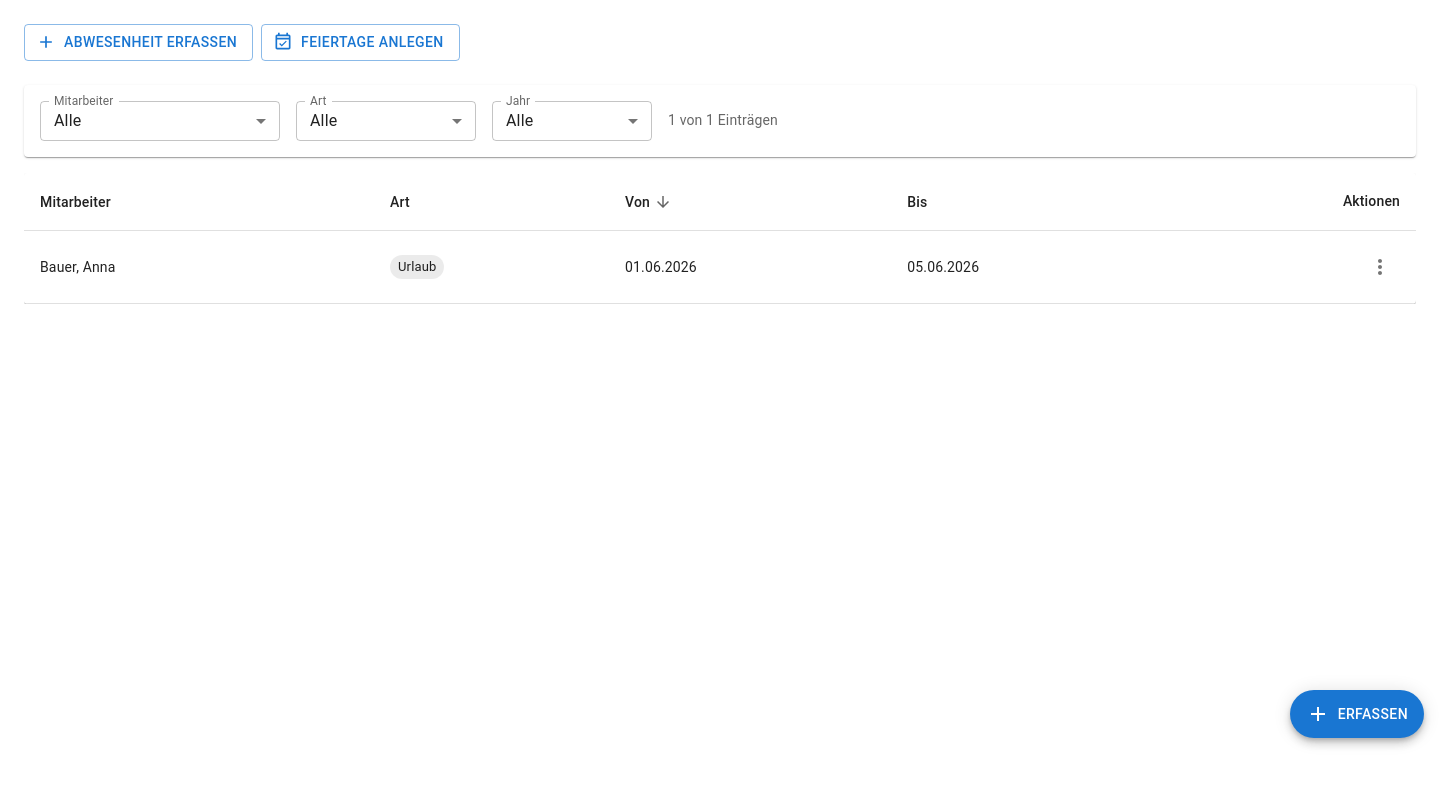
it: AbsencesView › with a branch selected › opens a delete confirm dialog with the pinned title and text, then deletes and reloads
Check: the text "Urlaub" is shown, box [398,258,436,274]
Click the button named "Weitere Aktionen für Bauer, Anna" at point(1380, 267), box [1360,247,1400,287]
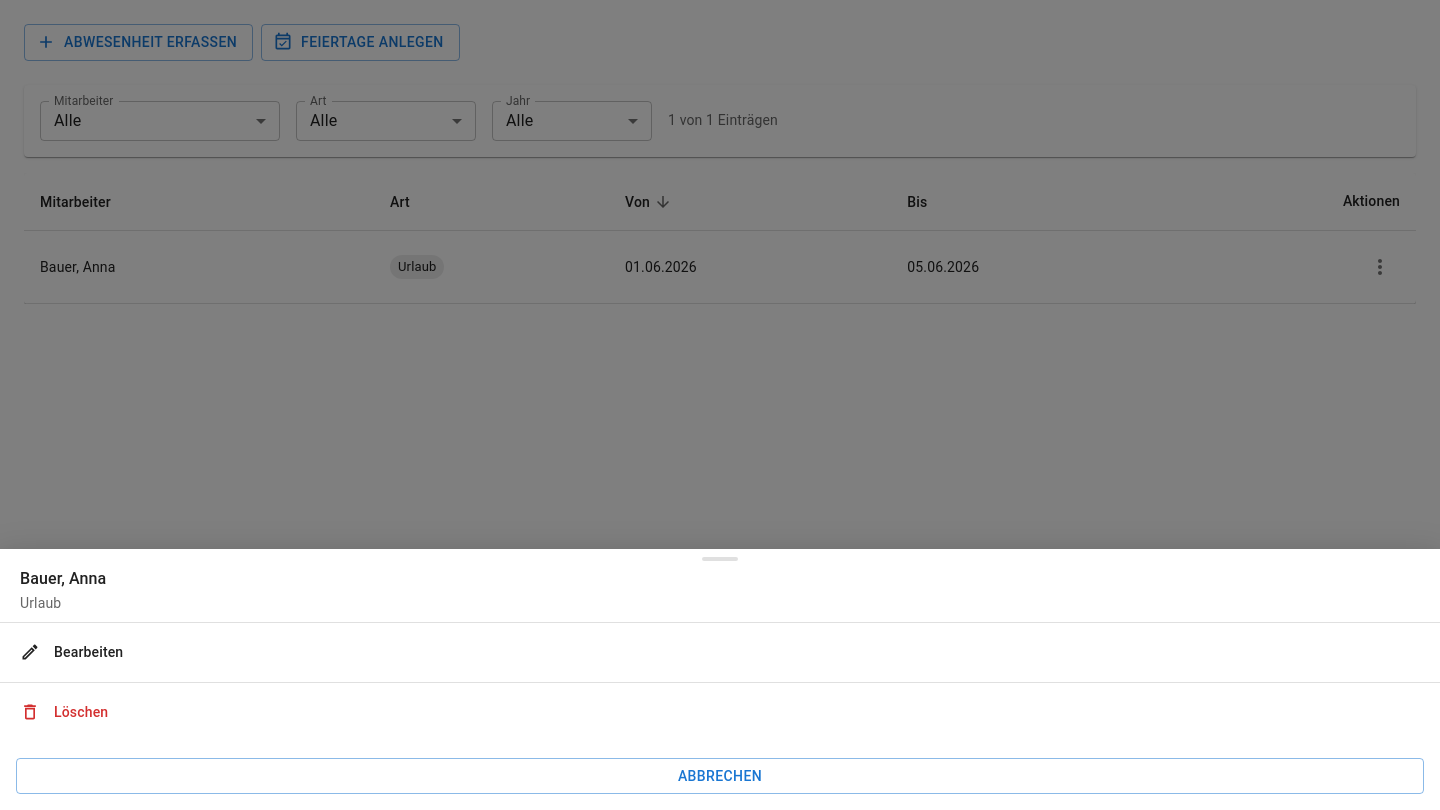
Click the button "Löschen" at point(81, 712), box [0,682,1439,742]
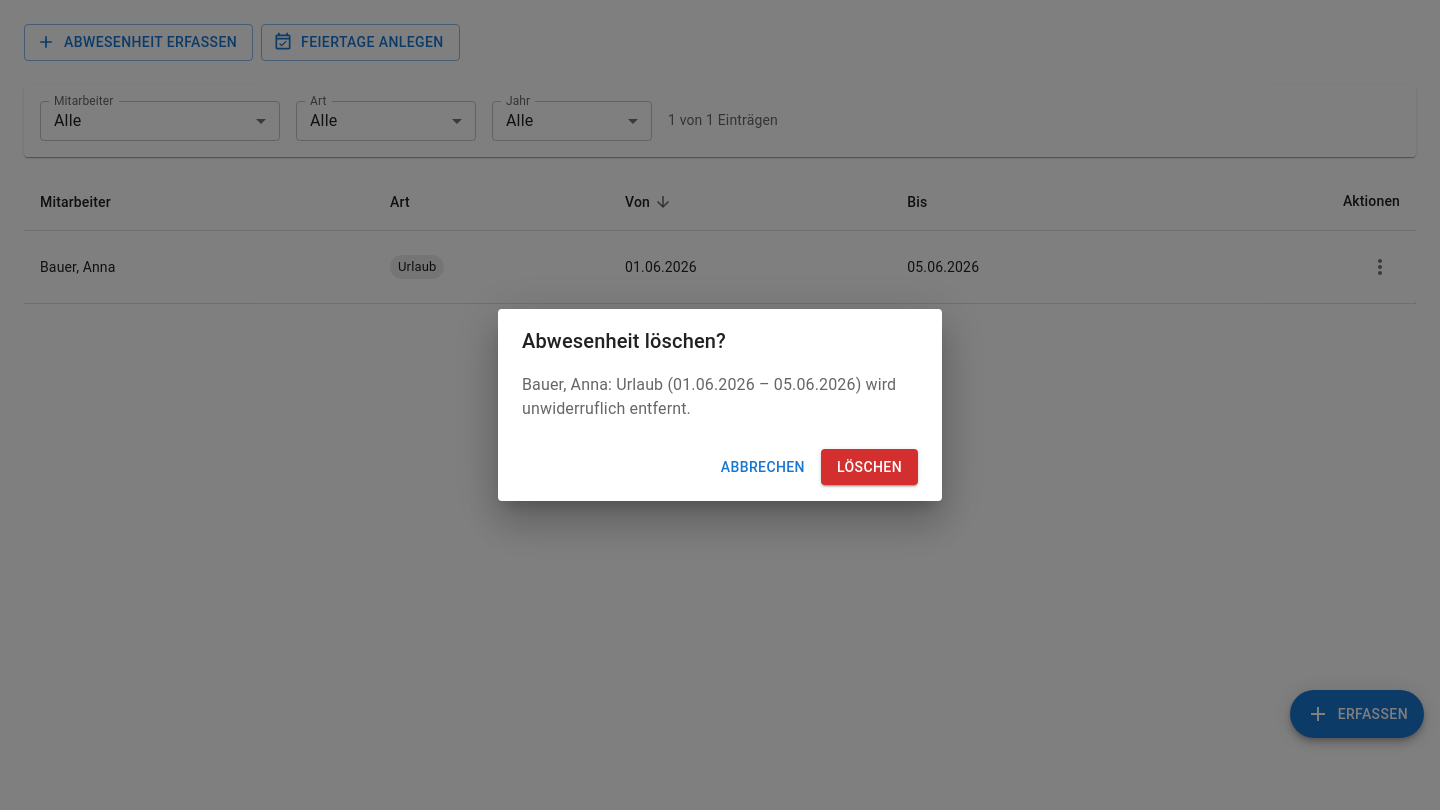
Check: the heading "Abwesenheit löschen?" is shown, box [522,329,726,353]
Check: the text "wird unwiderruflich entfernt." is shown, box [522,375,896,418]
Click the button "Löschen" at point(870, 467), box [821,449,918,485]
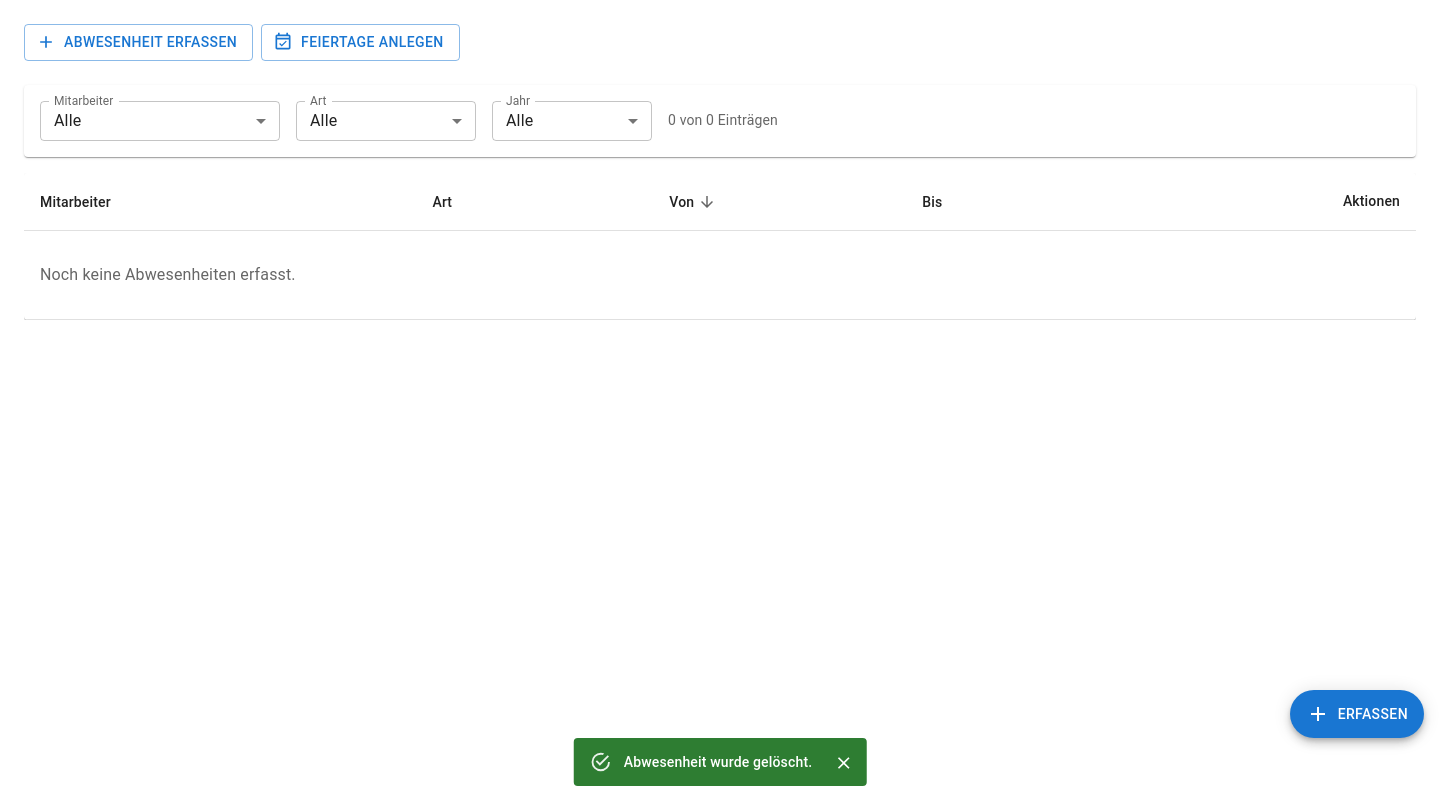
Check: the dialog is gone
Check: the text "Urlaub" is gone
Check: the text "Noch keine Abwesenheiten erfasst." is shown, box [40,265,296,284]
